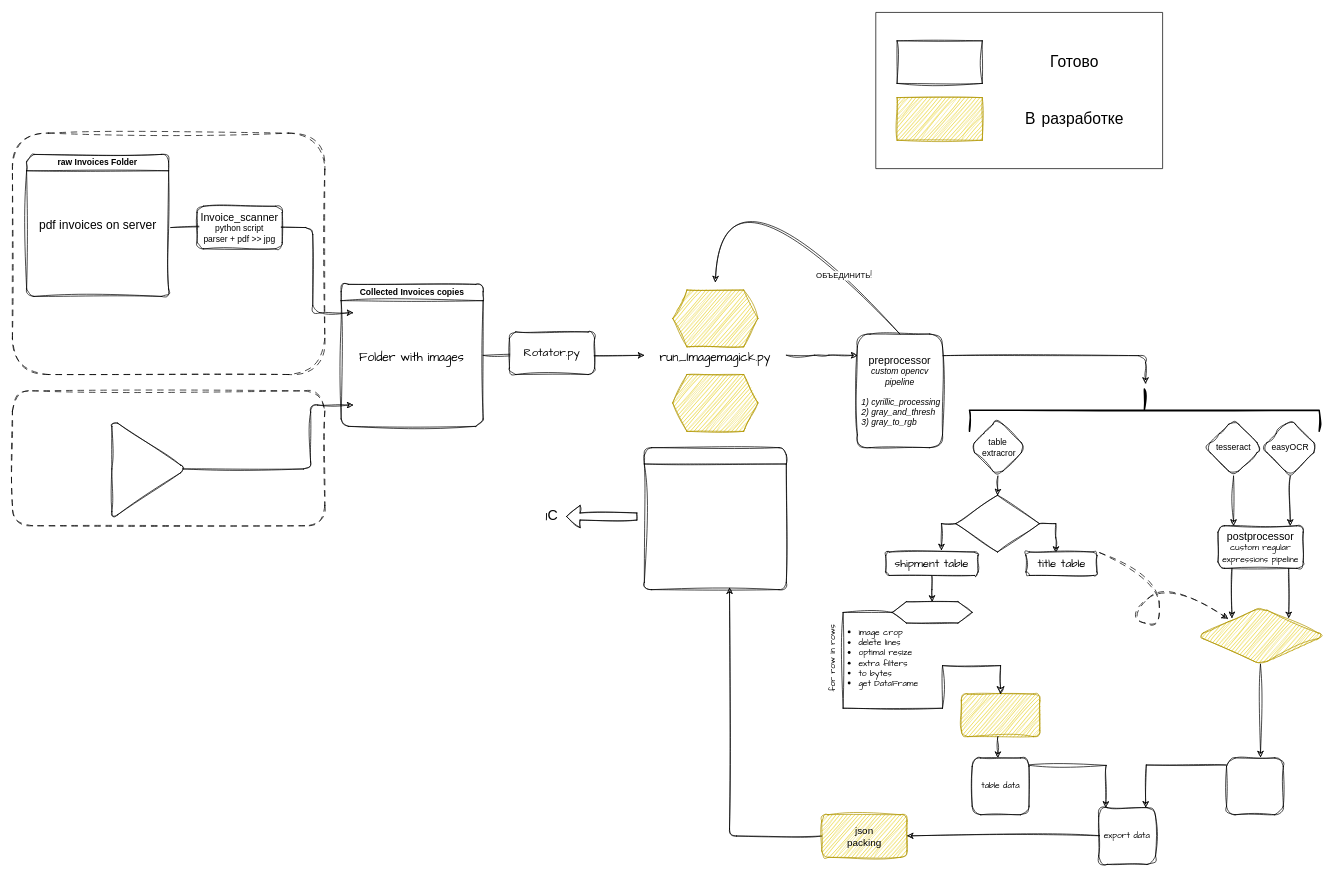
The diagram is 1337 pixels wide and 877 high, and some of its shapes have lost their labels. Each missing label, with the centre of its shape:
general metadata: [1254,786]
get all rows: [931,612]
manually adding: [148,469]
Output data Folder: [715,518]
ranking algorithm: [1260,635]
table classifier: [997,523]
table data postprocessor: [1000,715]
